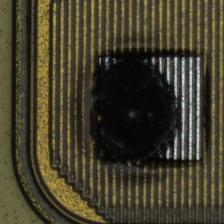PARTICLE: (86, 53, 184, 172)
